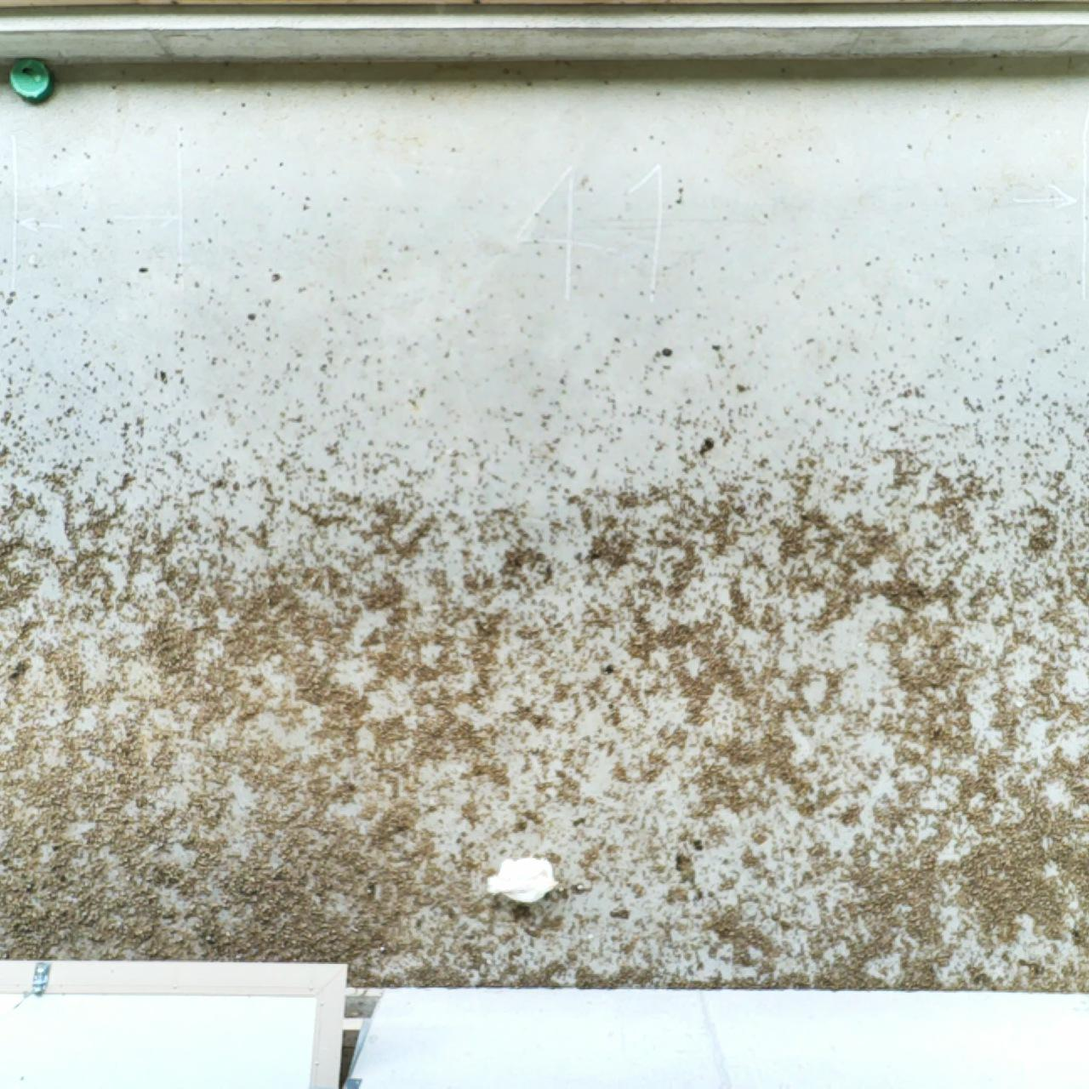chicken: (482, 849, 562, 909)
